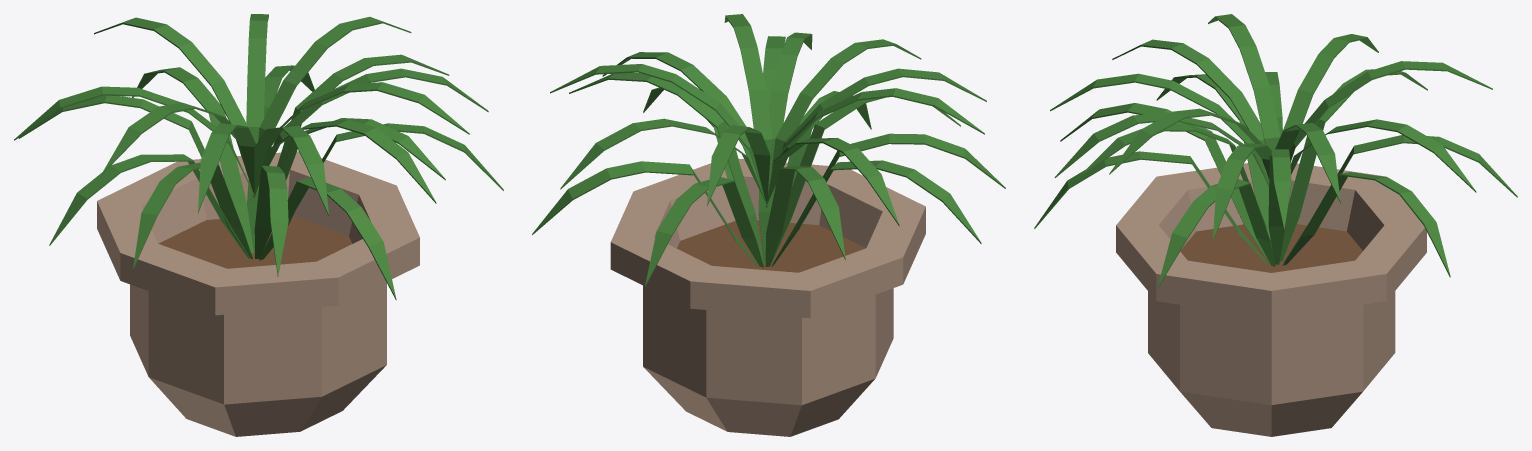
Rendered from Flower_30.fbx.
3 views of the same model, side by side, from view 1: azimuth 30°, elevation 25°; view 2: azimuth 150°, elevation 25°; view 3: azimuth 270°, elevation 25° (orthographic). The views are drawn at different scales.
Parts seen in each view (by area): view 1: Flower_30; view 2: Flower_30; view 3: Flower_30.
Boxes of the visible parts, x1,y1,x2,y2 form: Flower_30: [14, 14, 503, 436]; Flower_30: [532, 14, 1005, 436]; Flower_30: [1034, 14, 1517, 436].
Size of the model in its own units: 54.08 by 56.19 by 41.48.
